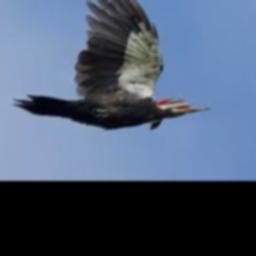Woodpecker: (12, 0, 212, 129)
